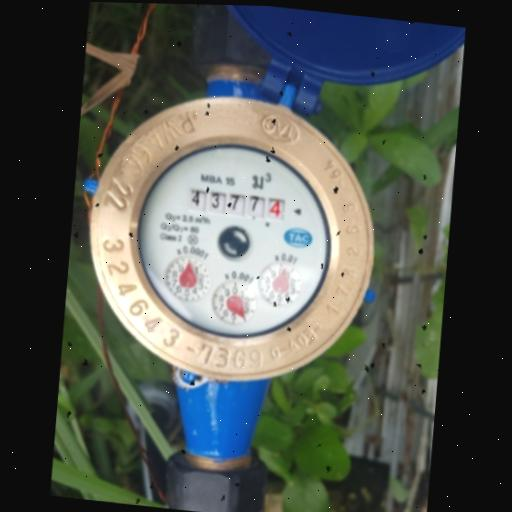3: (209, 192, 226, 212)
4: (268, 200, 284, 221), (191, 189, 206, 211)
7: (229, 193, 246, 216), (249, 198, 265, 218)
border_water_meter_number: (185, 184, 290, 227)
